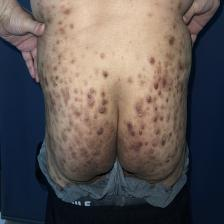DA: (55, 72, 184, 162)
